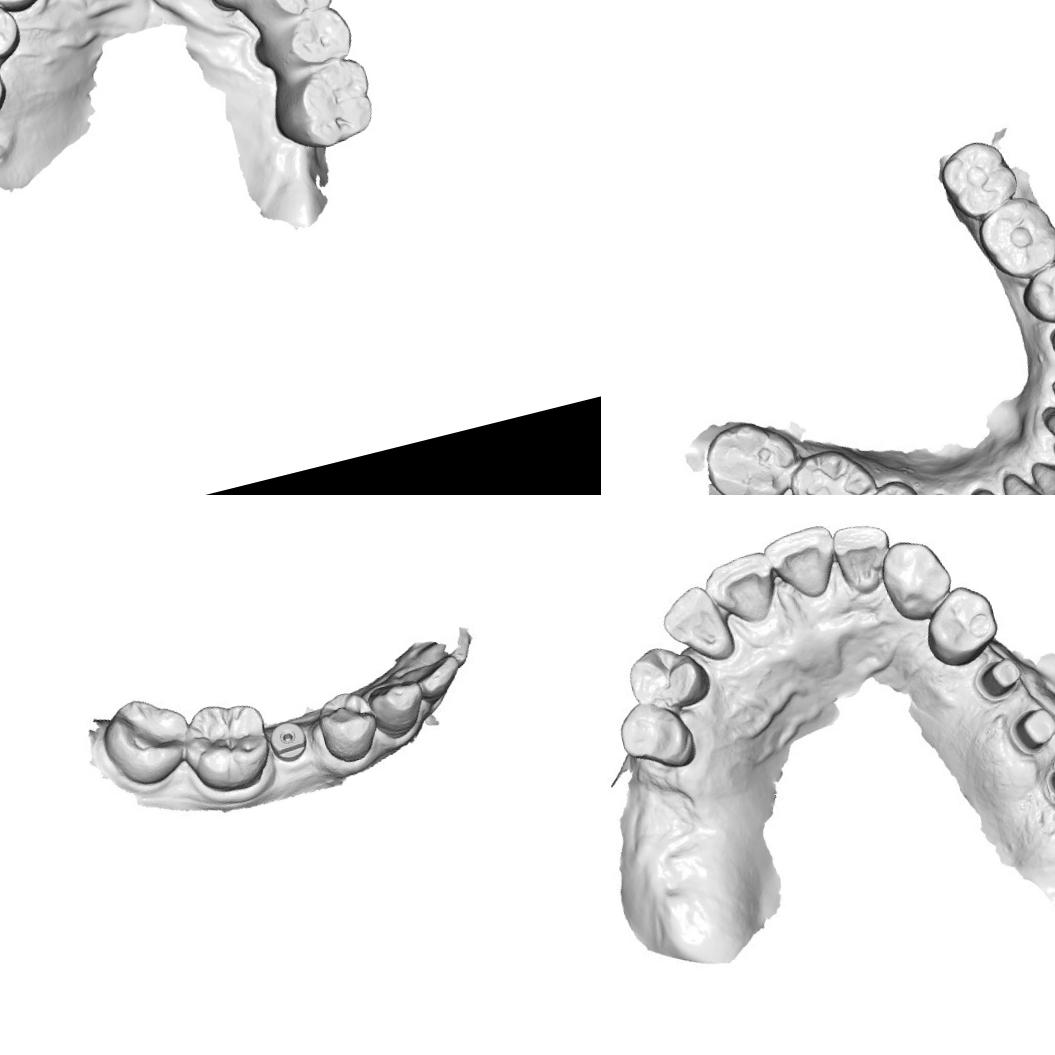abutment: (972, 650, 1032, 710), (1006, 698, 1055, 762), (1040, 748, 1055, 808)
canine: (870, 528, 962, 626), (356, 660, 433, 745)
implant: (265, 712, 311, 764)
incisor: (651, 574, 740, 676), (762, 522, 842, 604), (827, 515, 904, 600), (700, 550, 778, 628), (390, 643, 469, 706), (993, 465, 1051, 495), (1028, 446, 1055, 495)
molar: (276, 52, 383, 154), (98, 687, 199, 790), (179, 691, 272, 797), (692, 412, 804, 495), (938, 134, 1023, 226), (979, 195, 1055, 280), (786, 447, 882, 495)
premolar: (916, 581, 1007, 674), (619, 636, 713, 714), (270, 0, 360, 77), (614, 695, 696, 776), (318, 690, 379, 762), (1013, 252, 1055, 328), (251, 0, 339, 26), (0, 0, 26, 72), (858, 475, 927, 495)
